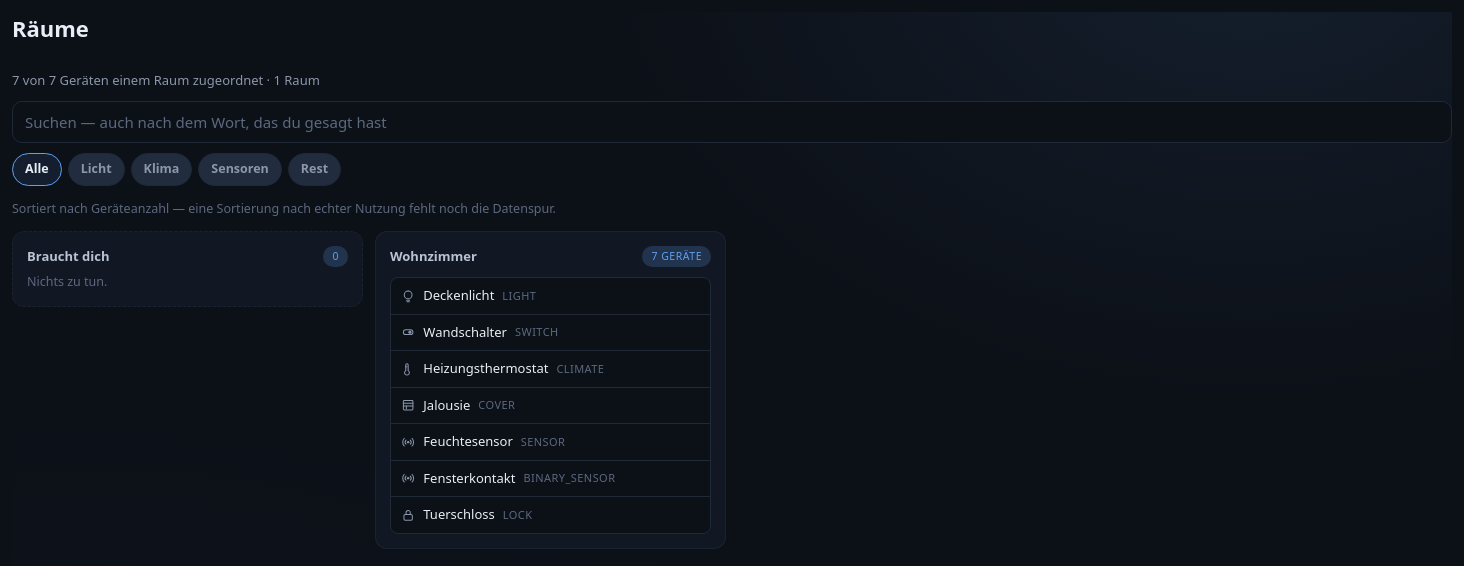
RaeumeView — Domänen-Chips filtern die Raum-Karten (kein zweiter Baum, nur ein Prädikat) › „Sensoren": sensor + binary_sensor, sonst nichts
Step 1. Click the button with class "rooms__chip" showing "Sensoren" → (240, 169), box [198, 153, 282, 186]
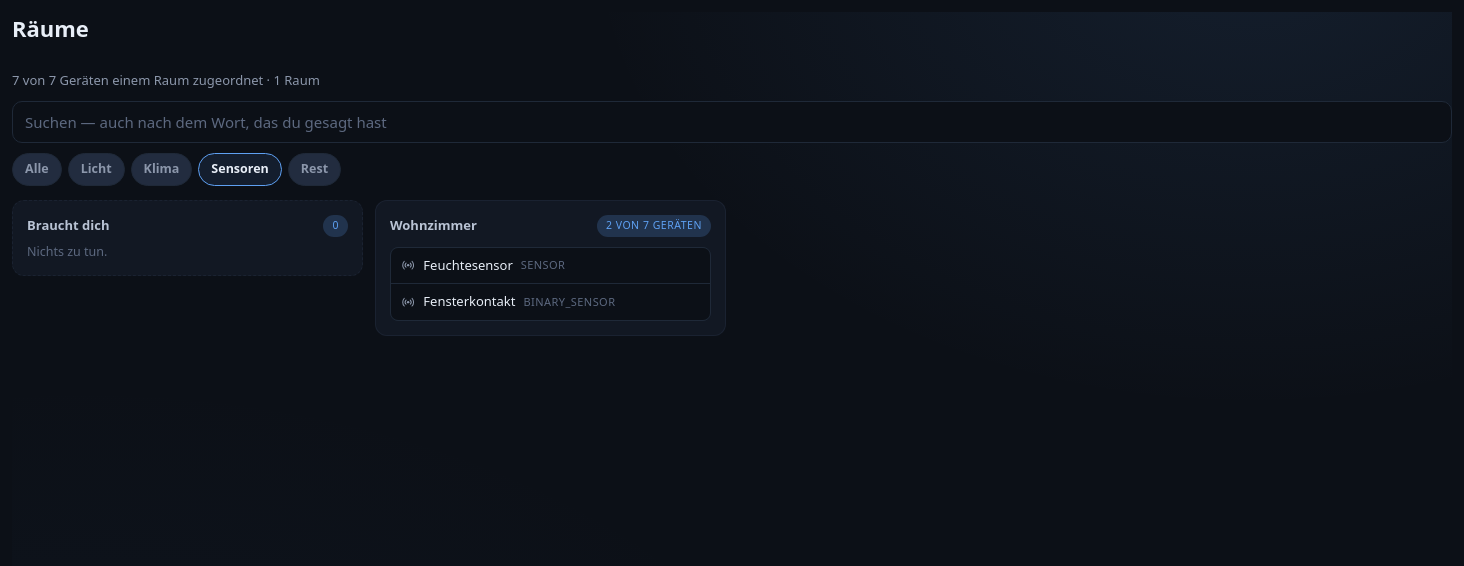
Result: the text "Deckenlicht" is gone
Result: the text "Wandschalter" is gone
Result: the text "Heizungsthermostat" is gone
